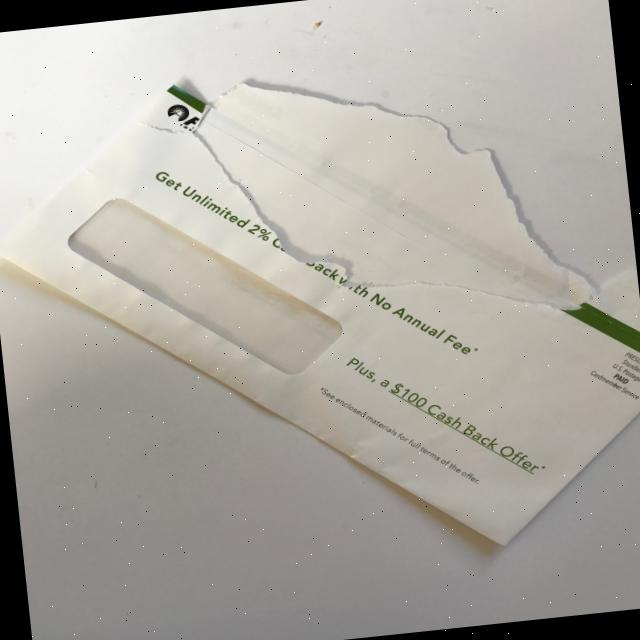paper: (0, 36, 640, 596)
